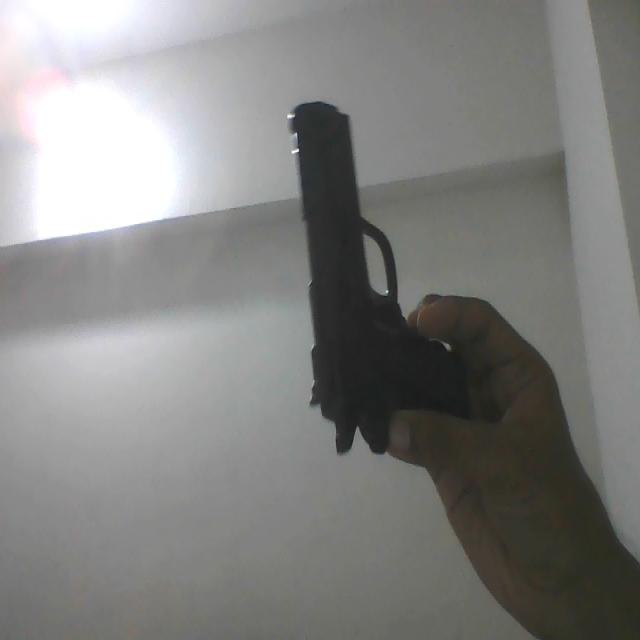handgun: (290, 98, 473, 456)
